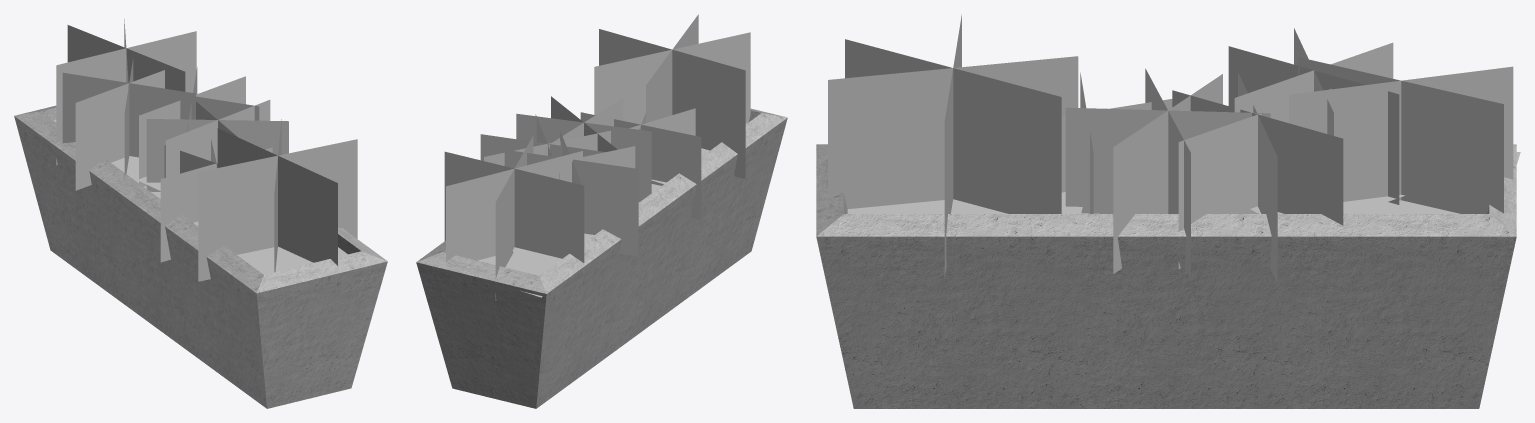
File: Model_Plant_Potted_Large.fbx
The picture shows the model from 3 angles, left to right: view 1: azimuth 30°, elevation 25°; view 2: azimuth 150°, elevation 25°; view 3: azimuth 270°, elevation 25°; orthographic projection. The views are drawn at different scales.
Parts seen in each view (by area): view 1: plantenbak1; view 2: plantenbak1; view 3: plantenbak1.
Part boxes in pixels (box(x1,y1,x2,y2)): plantenbak1: box(14, 19, 387, 408); plantenbak1: box(416, 14, 787, 408); plantenbak1: box(816, 14, 1520, 408).
Bounding box in the file's own units: 92.47 × 116 × 237.
